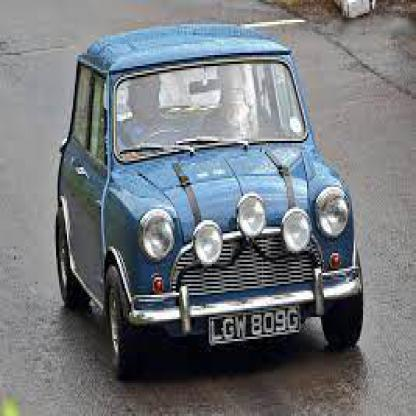car: (55, 24, 364, 370)
